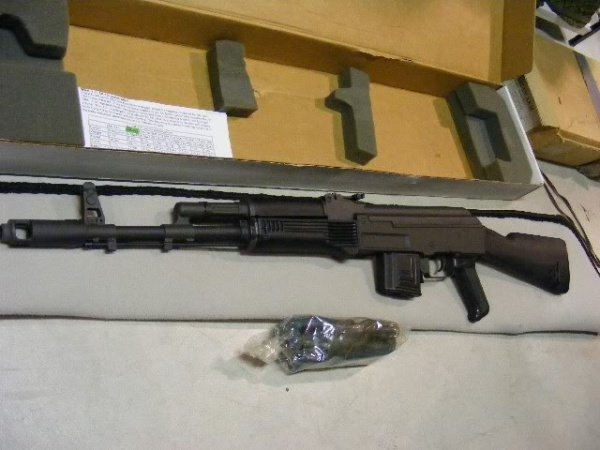ak47: (6, 180, 570, 323)
